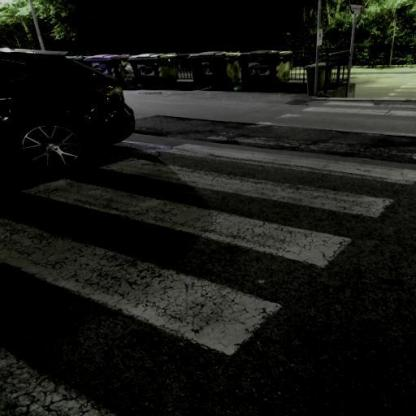crosswalk: (11, 154, 407, 272)
